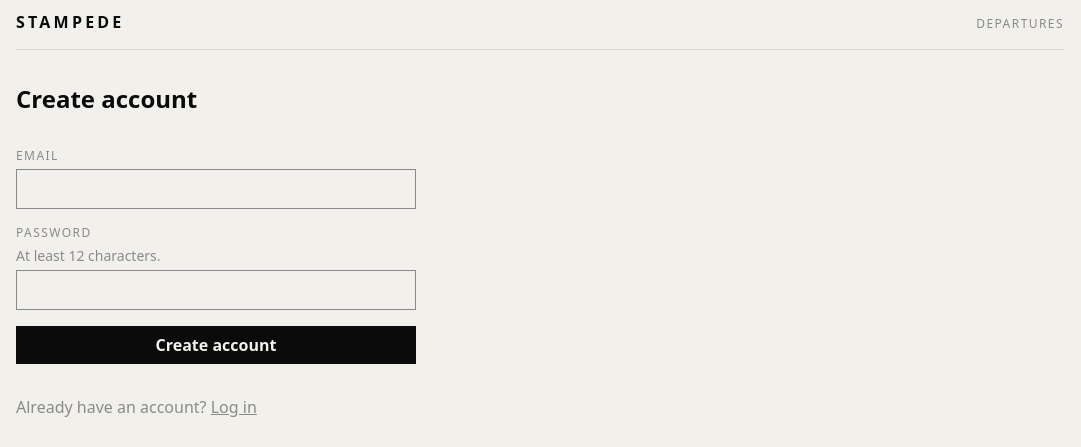
Test: RegisterPage › account created but the automatic login fails: goes to /login with a notice
Type "new@test.local" into the field labelled "Email". click: (216, 189)
box: [16,169,416,209]
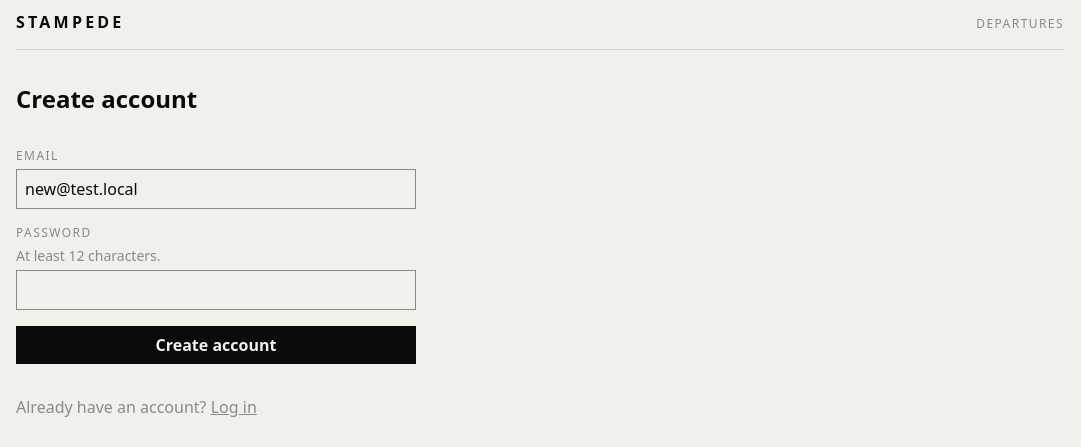
Type "a-long-enough-password" into the password field labelled "Password". click: (216, 290)
box: [16,270,416,310]
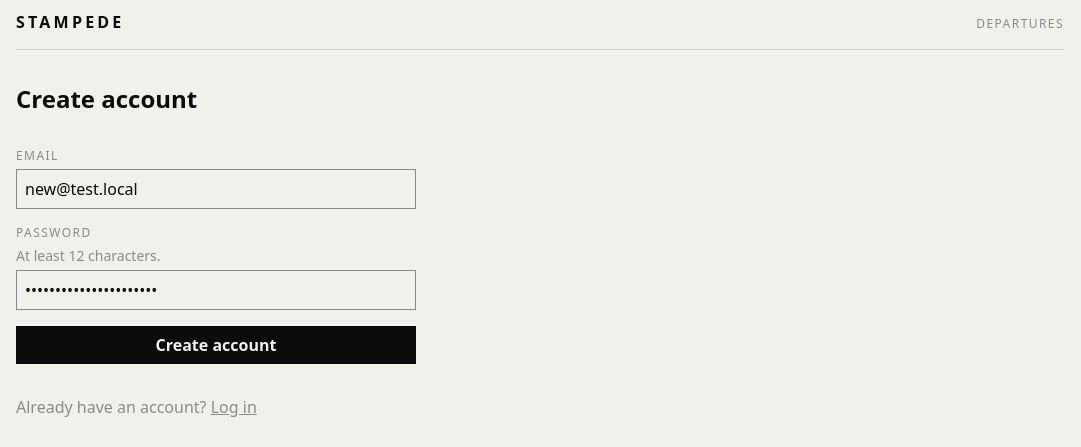
Click the button "Create account". click: (216, 345)
box: [16,326,416,364]
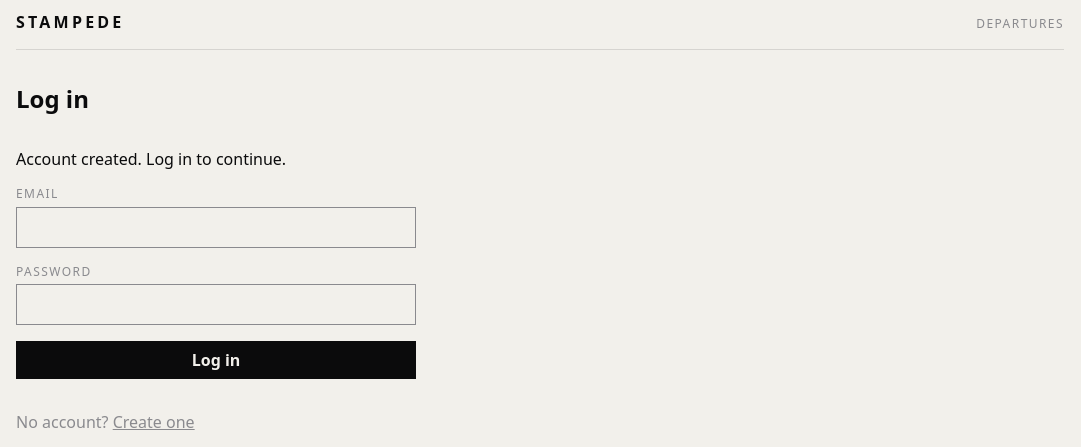
Result: the message reads "Account created. Log in to continue." at [16,148,286,170]
